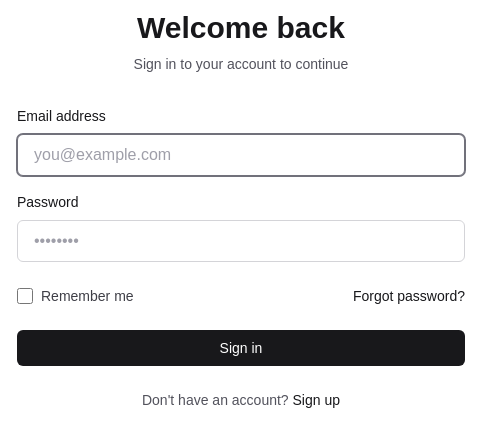
Test: Login Page › should show loading state when submitting
In the field labelled "Email address": (241, 155) [17,134,465,176], type "test@example.com"
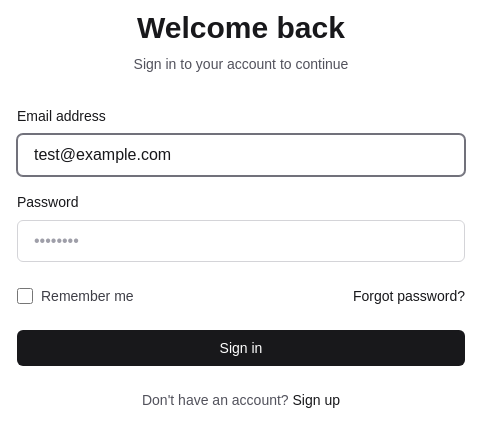
In the password field labelled "Password": (241, 241) [17,220,465,262], type "password123"
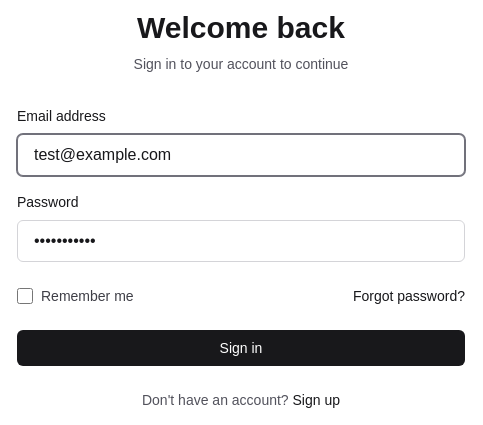
Click the button "Sign in": (241, 348) [17,330,465,366]
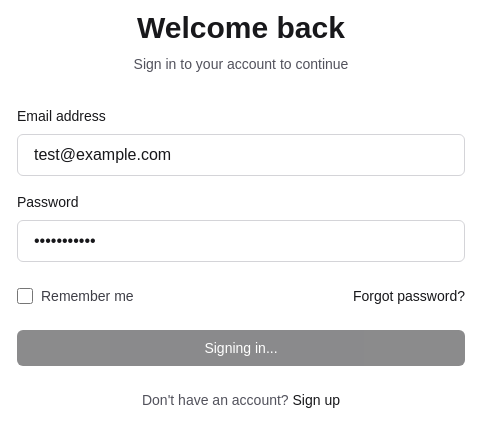
Expected: the button "Signing in..." is shown, [17,330,465,366]
